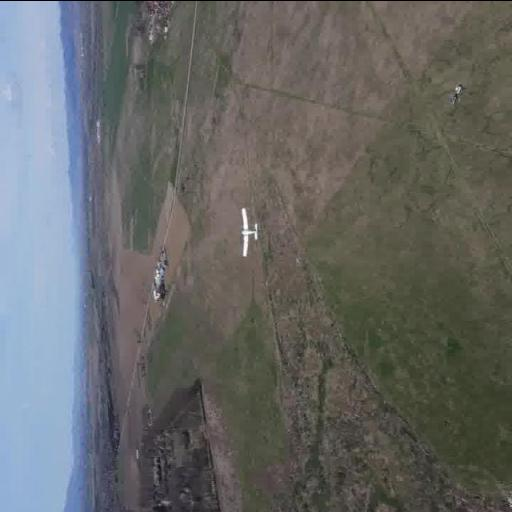uav: (232, 204, 268, 258)
